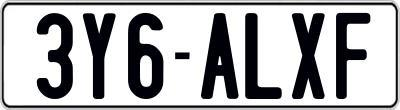3: (34, 12, 75, 104)
6: (126, 12, 163, 100)
A: (199, 12, 242, 102)
F: (335, 10, 375, 96)
L: (245, 13, 284, 104)
X: (292, 12, 326, 101)
Y: (82, 12, 116, 98)
